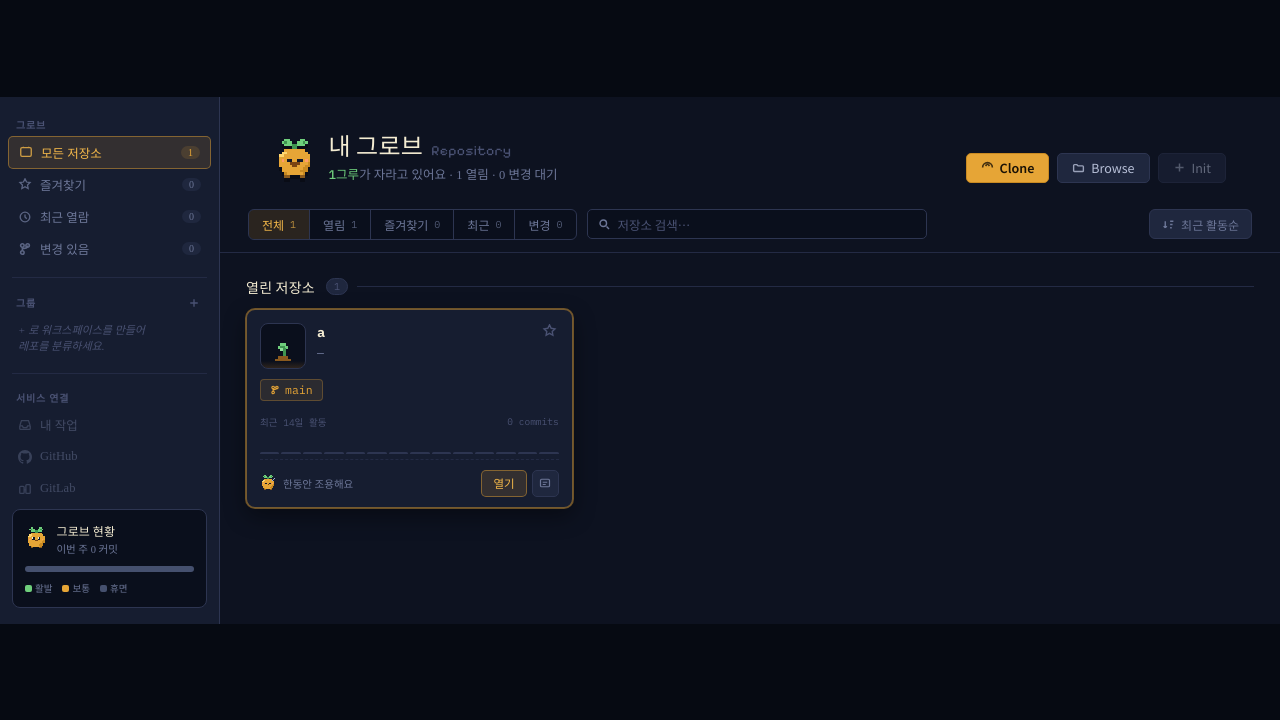
Test: RepoManager — 그로브 카드 그리드 (RM2~RM4) › 정렬 토글: 활동순 ↔ 이름순
Click the button "최근 활동순" at {"x": 1201, "y": 224}, box [1149,209,1252,239]
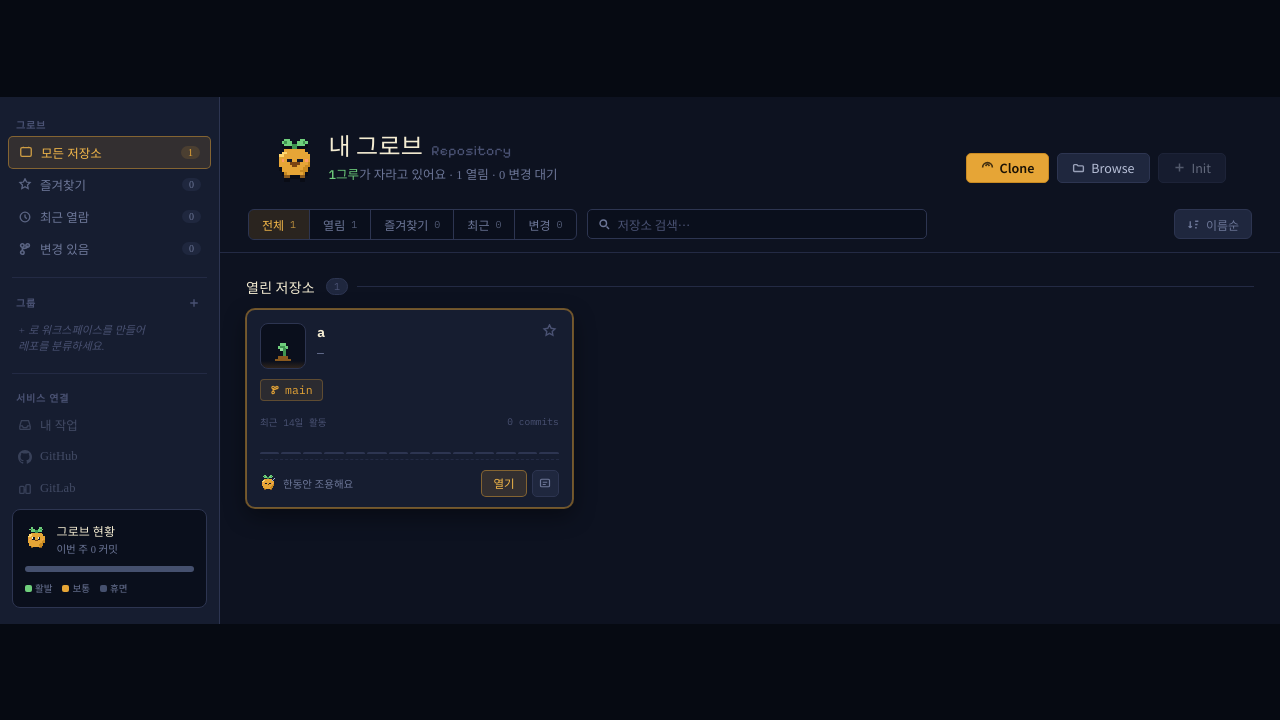
Check: the button "이름순" is shown, box [1174,209,1252,239]
